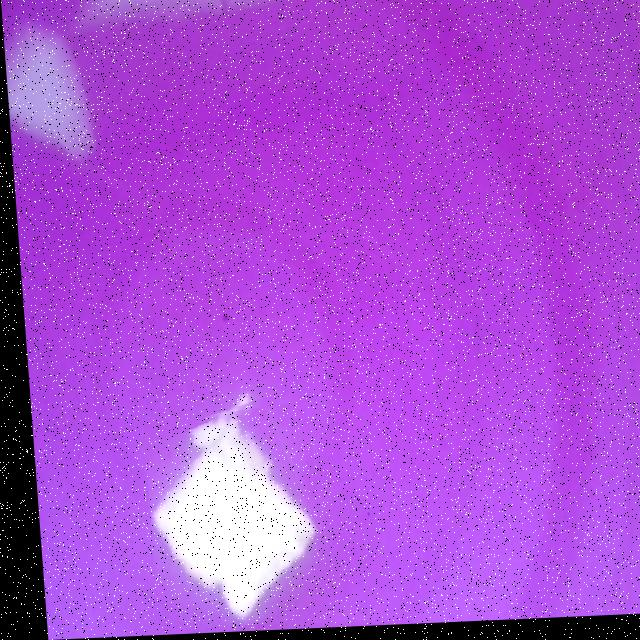litter: (135, 403, 326, 630)
